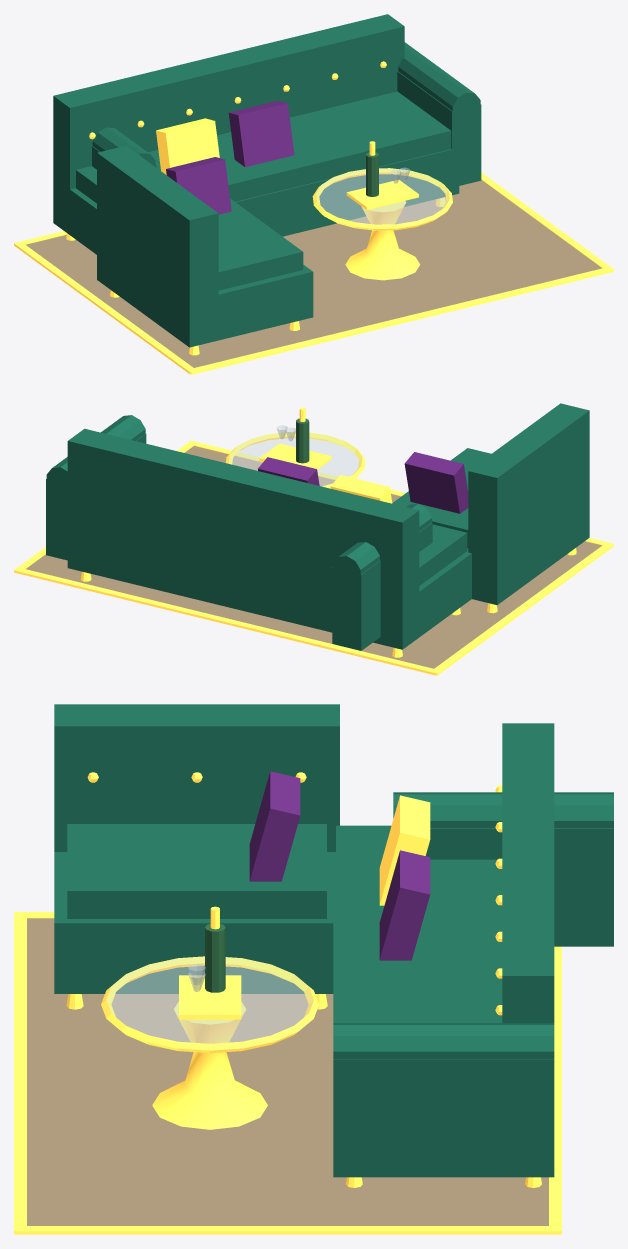
File: lux_velvet_lounge.glb
The picture shows the model from 3 angles, top to bottom: view 1: azimuth 30°, elevation 25°; view 2: azimuth 150°, elevation 25°; view 3: azimuth 270°, elevation 25°; orthographic projection. The views are drawn at different scales.
Visible parts, largest first — view 1: lux_velvet_lounge; view 2: lux_velvet_lounge; view 3: lux_velvet_lounge.
Part boxes in pixels (<box>): lux_velvet_lounge: <box>14,14,613,374</box>; lux_velvet_lounge: <box>14,403,613,675</box>; lux_velvet_lounge: <box>14,704,613,1234</box>.
Bounding box in the file's own units: 2.91 × 0.935 × 2.31.
